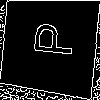P: (24, 20, 74, 58)
